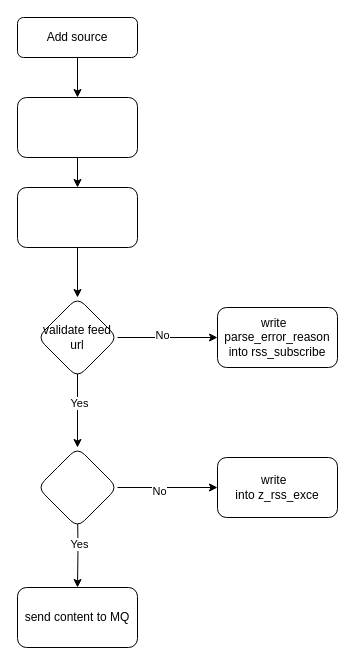
Image size: 355x665. Some labels were removed from this diagram. Here are the shapes that lost their labels. From the top down, the centre of each, then its label:
At (x=77, y=127): "Add rss_subscribe".
At (x=77, y=217): "run parser".
At (x=77, y=487): "validate content".
